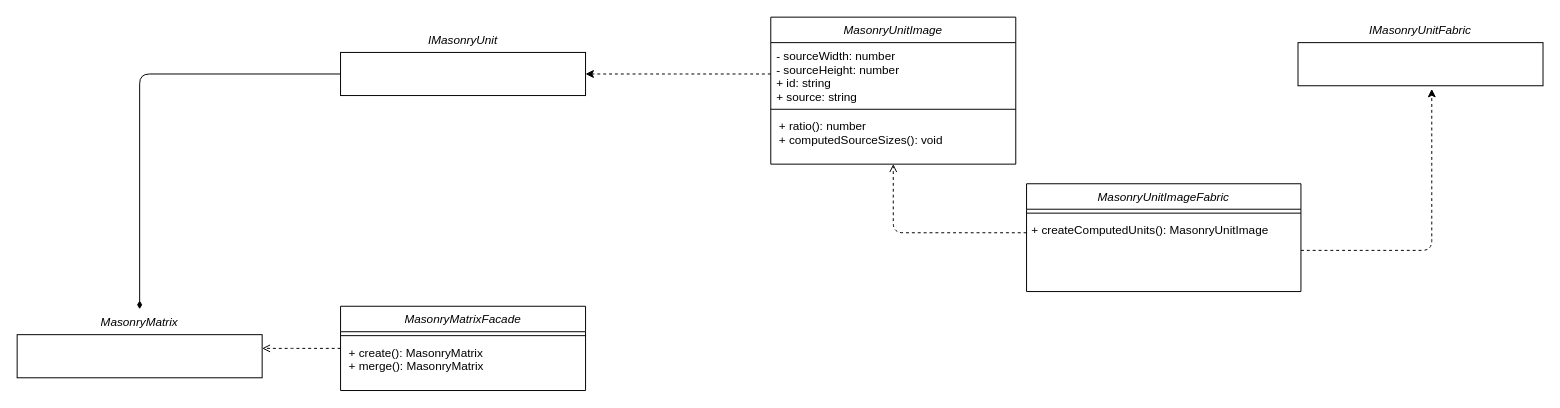
This 1560x408 diagram has some shape labels left out. The centre of each missing label's shape, as x and y in pixels:
+ id: string + matrix: MasonryUnit[][]: (x=139, y=356)
createComputedUnits(): MasonryUnit[]: (x=1420, y=64)
id: string ratio: number: (x=463, y=73)
